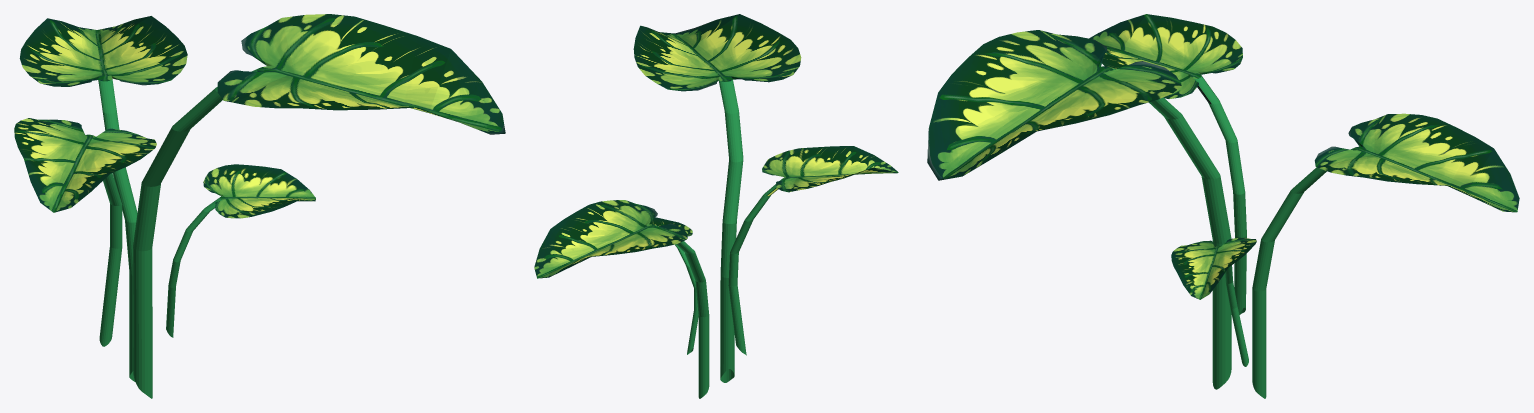
File: floorplant3.fbx
3 renders of one model, left to right at view 1: azimuth 30°, elevation 25°; view 2: azimuth 150°, elevation 25°; view 3: azimuth 270°, elevation 25°, orthographic. The views are drawn at different scales.
Visible parts, largest first — view 1: floorplant 3; view 2: floorplant 3; view 3: floorplant 3.
Part boxes in pixels (x1,y1,x2,y2): floorplant 3: (14, 14, 505, 398); floorplant 3: (534, 14, 898, 398); floorplant 3: (927, 14, 1519, 398).
Size of the model in its own units: 46.34 by 42.4 by 62.21.
